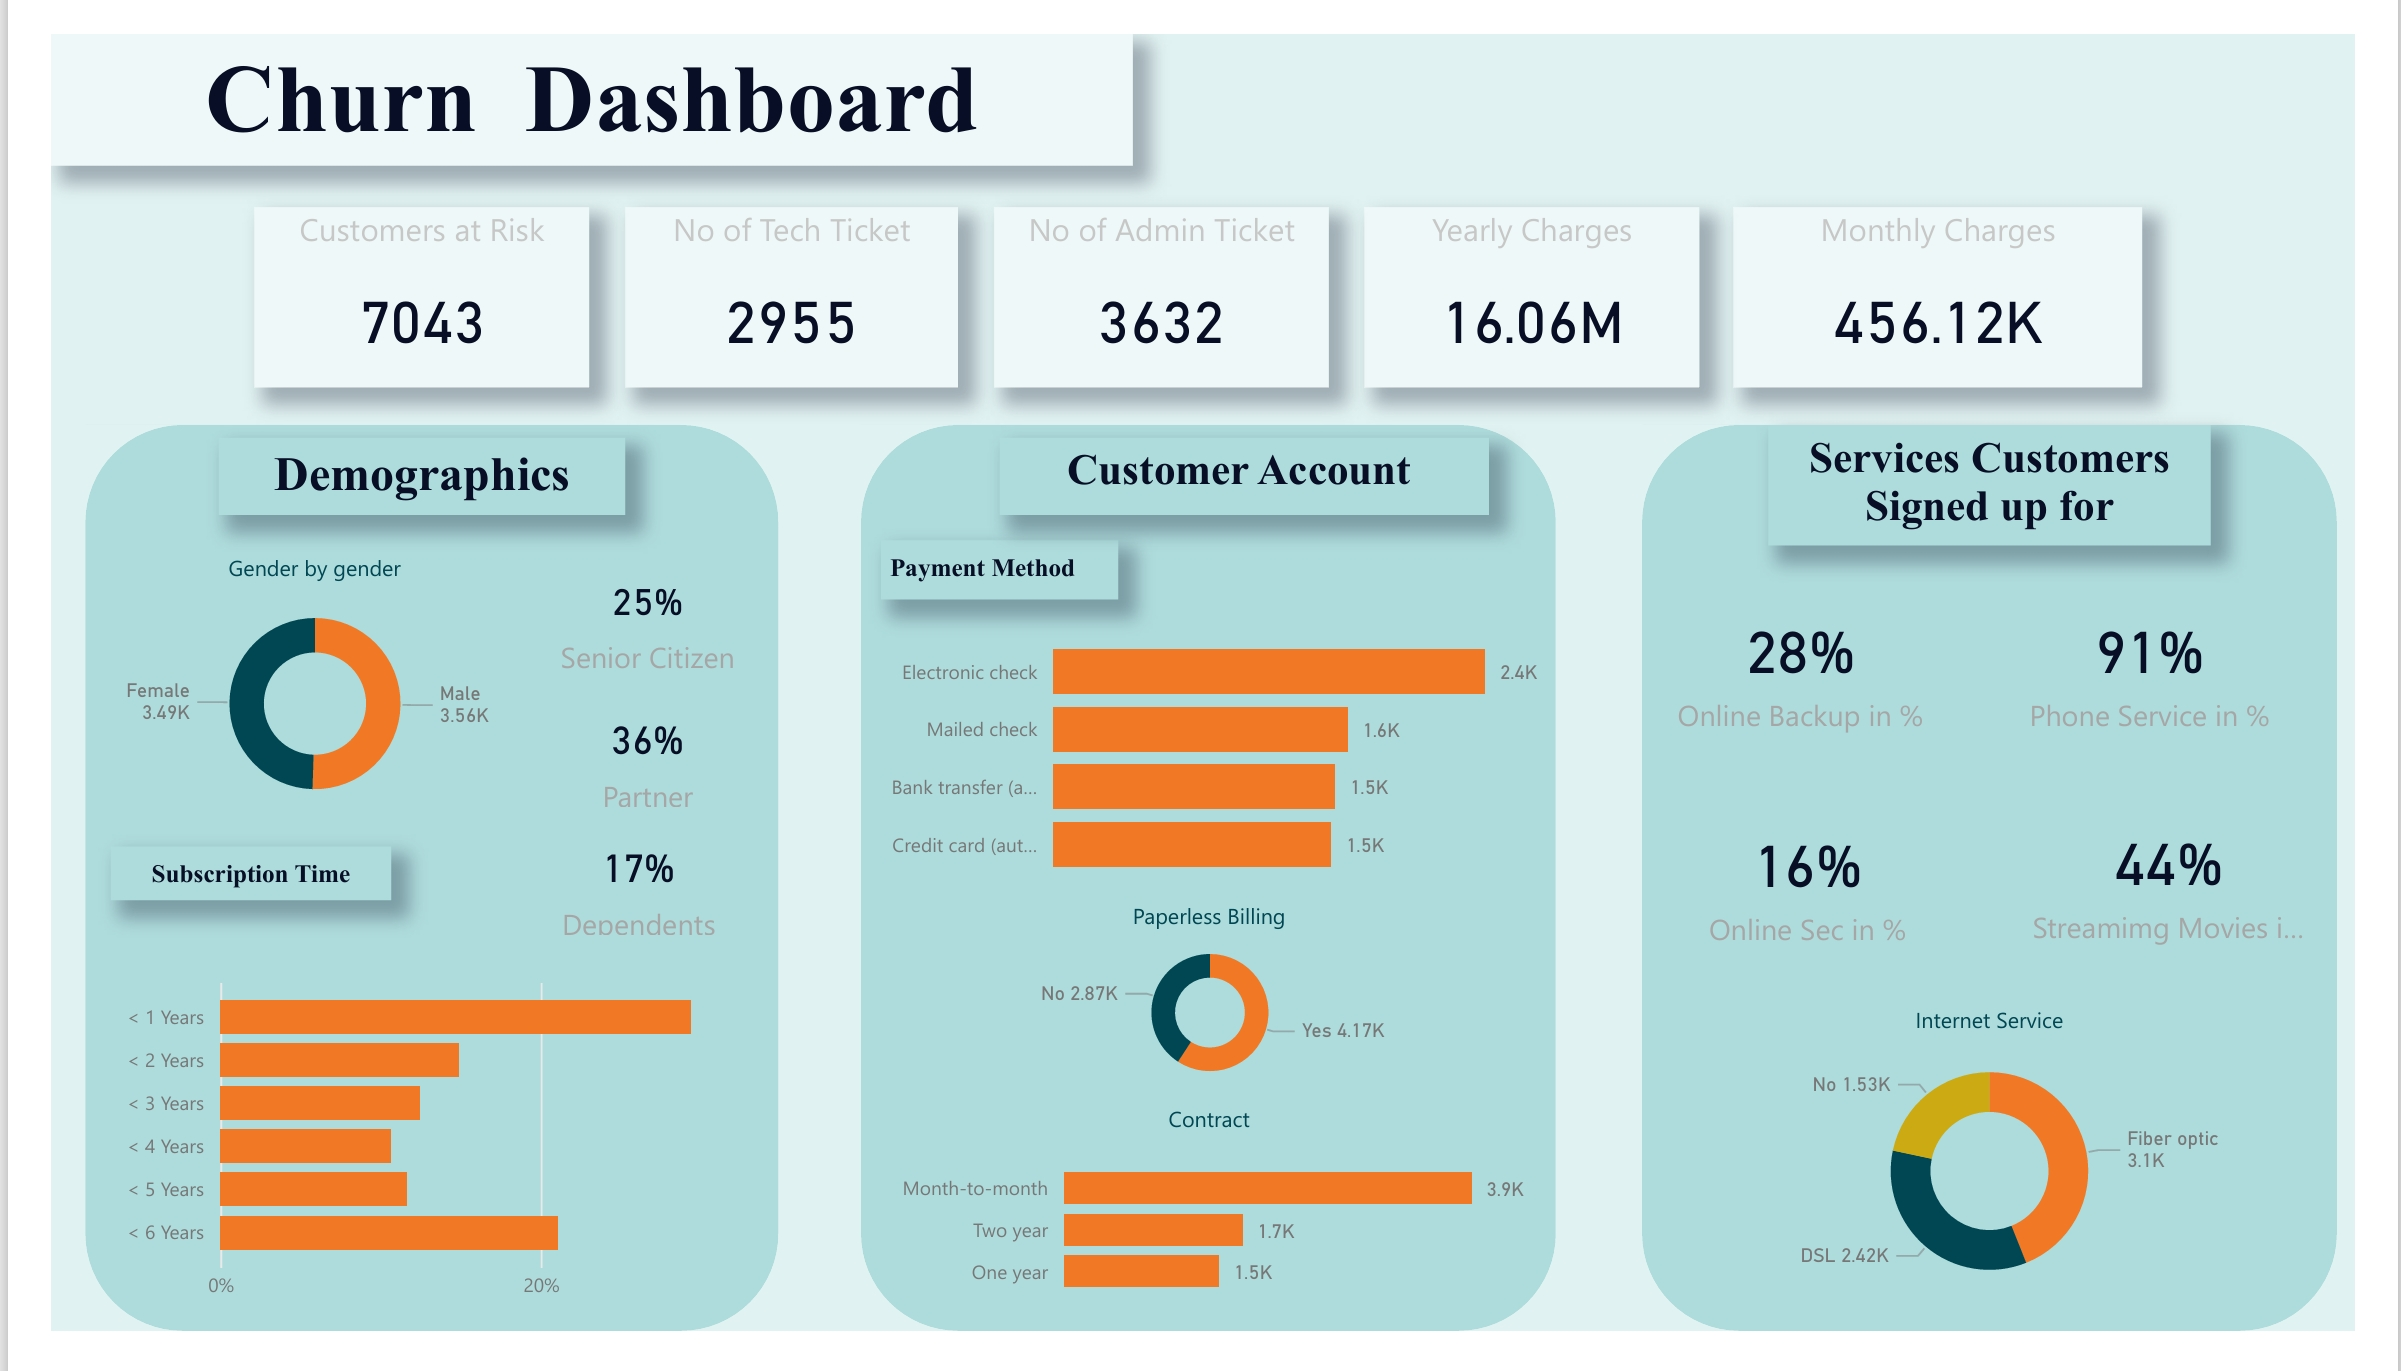

This screenshot's page, from the dashboard's own definition file:
{"tool":"powerbi","page":{"name":"Chrun Dashboard","canvas":[1280,720],"ordinal":1},"visuals":[{"type":"textbox","box":[0,0,601.4,72.9],"z":0},{"type":"card","title":"Customers at Risk","fields":{"Values":["CountNonNull(01 Churn-Dataset.customerID)"]},"box":[113,95.6,185.7,100.4],"z":1000},{"type":"card","title":"No of Tech Ticket","fields":{"Values":["Sum(01 Churn-Dataset.numTechTickets)"]},"box":[318.6,95.6,185.7,100.4],"z":2000},{"type":"card","title":"Yearly Charges","fields":{"Values":["Sum(01 Churn-Dataset.TotalCharges)"]},"box":[729.9,95.6,185.7,100.4],"z":3000},{"type":"card","title":"No of Admin Ticket","fields":{"Values":["Sum(01 Churn-Dataset.numAdminTickets)"]},"box":[524.2,95.6,185.7,100.4],"z":4000},{"type":"card","title":"Monthly Charges","fields":{"Values":["Sum(01 Churn-Dataset.MonthlyCharges)"]},"box":[935.5,95.6,226.9,100.4],"z":5000},{"type":"shape","box":[884.3,217.1,385.7,502.9],"z":6000},{"type":"shape","box":[450,217.1,385.7,502.9],"z":7000},{"type":"shape","box":[18.6,217.1,385.7,502.9],"z":8000},{"type":"textbox","box":[92.9,224.3,225.7,42.9],"z":9000},{"type":"textbox","box":[527.1,224.3,271.4,42.9],"z":10000},{"type":"textbox","box":[954.3,217.1,245.7,67.1],"z":11000},{"type":"donutChart","title":"Gender by gender","fields":{"Category":["01 Churn-Dataset.gender"],"Y":["CountNonNull(01 Churn-Dataset.gender)"]},"box":[33,287.9,227.1,151.4],"z":12000},{"type":"textbox","box":[32.9,451.4,155.7,30],"z":13000},{"type":"clusteredBarChart","title":"Count of Churn by Custom","fields":{"Category":["01 Churn-Dataset.Subcription"],"Y":["CountNonNull(01 Churn-Dataset.Churn)"]},"box":[32.9,514.3,344.3,198.6],"z":14000},{"type":"card","fields":{"Values":["01 Churn-Dataset.% of Senior Citizen"]},"box":[270.2,287.9,122.9,75.7],"z":15000},{"type":"card","fields":{"Values":["01 Churn-Dataset.% of Partner"]},"box":[270.2,370.8,122.9,62.9],"z":16000},{"type":"card","fields":{"Values":["01 Churn-Dataset.% of Dependents"]},"box":[260.2,442.2,132.9,62.9],"z":17000},{"type":"textbox","box":[461.4,281.4,131.4,32.9],"z":18000},{"type":"clusteredBarChart","fields":{"Category":["01 Churn-Dataset.PaymentMethod"],"Y":["CountNonNull(01 Churn-Dataset.PaymentMethod)"]},"box":[445.7,315.7,394.3,165.7],"z":19000},{"type":"donutChart","title":" Paperless Billing ","fields":{"Y":["CountNonNull(01 Churn-Dataset.PaperlessBilling)"],"Category":["01 Churn-Dataset.PaperlessBilling"]},"box":[460.7,480.7,365.7,108.6],"z":20000},{"type":"clusteredBarChart","title":" Contract","fields":{"Category":["01 Churn-Dataset.Contract"],"Y":["CountNonNull(01 Churn-Dataset.Contract)"]},"box":[461.4,594.3,364.3,117.1],"z":21000},{"type":"donutChart","title":" Internet Service","fields":{"Category":["01 Churn-Dataset.InternetService"],"Y":["CountNonNull(01 Churn-Dataset.InternetService)"]},"box":[927.1,538.6,300,168.6],"z":22000},{"type":"card","fields":{"Values":["01 Churn-Dataset.Online Backup in %"]},"box":[892.9,298.6,158.6,105.7],"z":23000},{"type":"card","fields":{"Values":["01 Churn-Dataset.Online Sec in %"]},"box":[901.4,417.1,150,107.1],"z":24000},{"type":"card","fields":{"Values":["01 Churn-Dataset.Phone Service in %"]},"box":[1092.9,300,145.7,102.9],"z":25000},{"type":"card","fields":{"Values":["01 Churn-Dataset.Streamimg Movies in %"]},"box":[1092.9,414.3,167.1,110],"z":26000}]}

Visuals, with their boxes in screenshot pixels (x1, y1, x2, y2), scaled from the page's 1280x720 canvas onto the 2401x1371 screenshot:
textbox: bbox=(0, 0, 1128, 139)
"Customers at Risk" card: bbox=(212, 182, 560, 373)
"No of Tech Ticket" card: bbox=(598, 182, 946, 373)
"Yearly Charges" card: bbox=(1369, 182, 1717, 373)
"No of Admin Ticket" card: bbox=(983, 182, 1332, 373)
"Monthly Charges" card: bbox=(1755, 182, 2180, 373)
shape: bbox=(1659, 413, 2382, 1370)
shape: bbox=(844, 413, 1568, 1370)
shape: bbox=(35, 413, 758, 1370)
textbox: bbox=(174, 427, 598, 509)
textbox: bbox=(989, 427, 1498, 509)
textbox: bbox=(1790, 413, 2251, 541)
"Gender by gender" donutChart: bbox=(62, 548, 488, 837)
textbox: bbox=(62, 860, 354, 917)
"Count of Churn by Custom" clusteredBarChart: bbox=(62, 979, 708, 1357)
card - 01 Churn-Dataset.% of Senior Citizen: bbox=(507, 548, 737, 692)
card - 01 Churn-Dataset.% of Partner: bbox=(507, 706, 737, 826)
card - 01 Churn-Dataset.% of Dependents: bbox=(488, 842, 737, 962)
textbox: bbox=(865, 536, 1112, 598)
clusteredBarChart - 01 Churn-Dataset.PaymentMethod x CountNonNull(01 Churn-Dataset.PaymentMethod): bbox=(836, 601, 1576, 917)
" Paperless Billing " donutChart: bbox=(864, 915, 1550, 1122)
" Contract" clusteredBarChart: bbox=(865, 1132, 1549, 1355)
" Internet Service" donutChart: bbox=(1739, 1026, 2302, 1347)
card - 01 Churn-Dataset.Online Backup in %: bbox=(1675, 569, 1972, 770)
card - 01 Churn-Dataset.Online Sec in %: bbox=(1691, 794, 1972, 998)
card - 01 Churn-Dataset.Phone Service in %: bbox=(2050, 571, 2323, 767)
card - 01 Churn-Dataset.Streamimg Movies in %: bbox=(2050, 789, 2363, 998)
